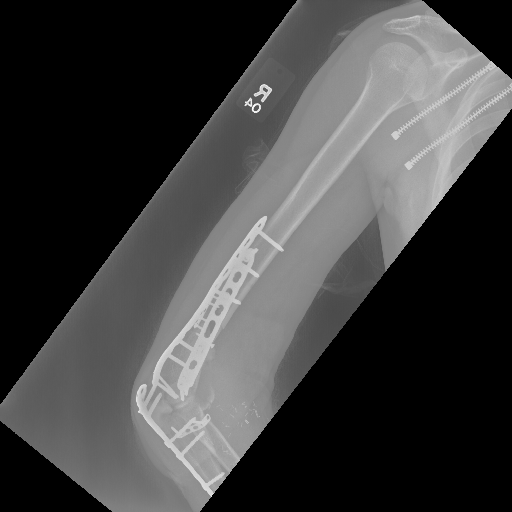implant: (153, 215, 287, 396), (135, 383, 227, 495)
